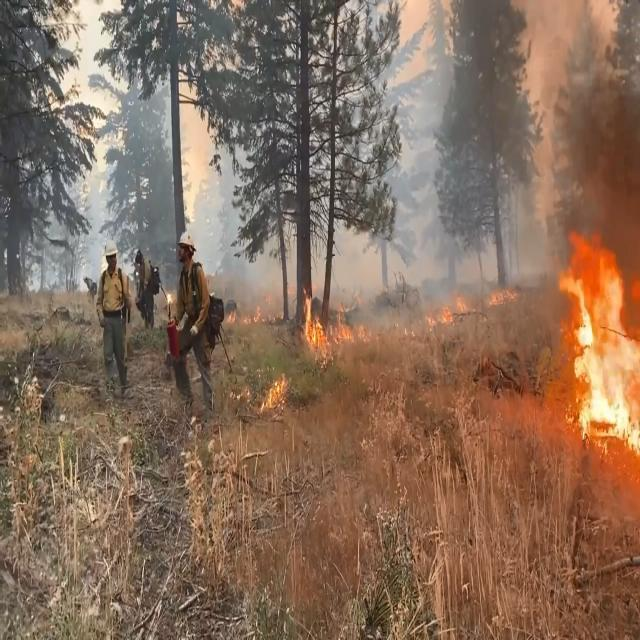Fire: (547, 222, 640, 460)
